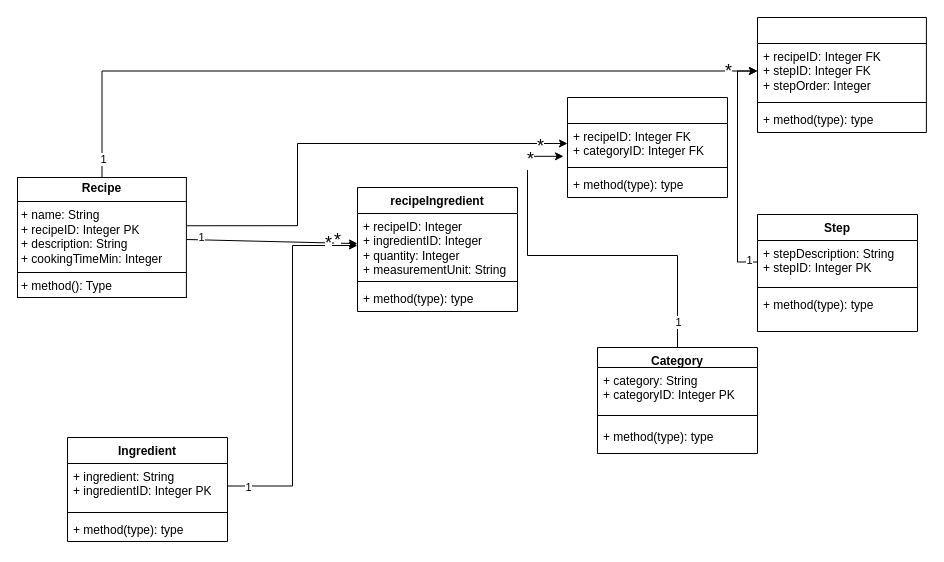
The diagram is 944 pixels wide and 562 high, and some of its shapes have lost their labels. The box of each missing label's shape, as (x1, y1, x2, y2) in pixels:
recipeCategory: (566, 96, 728, 198)
RecipeStep: (756, 16, 926, 132)
